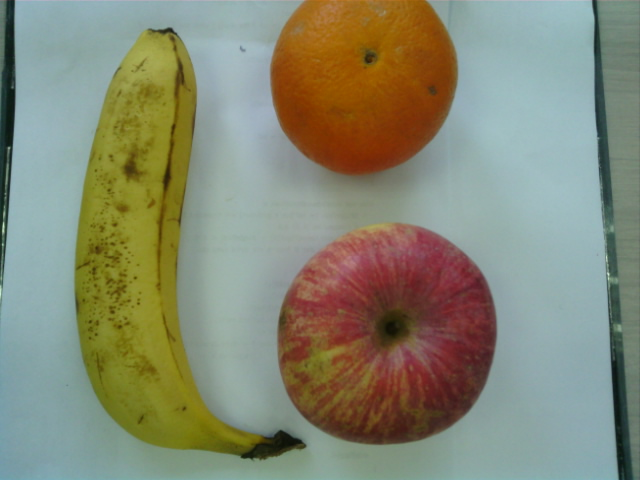normal_apple: (278, 222, 501, 446)
normal_banana: (71, 25, 260, 457)
normal_orange: (267, 1, 459, 177)
